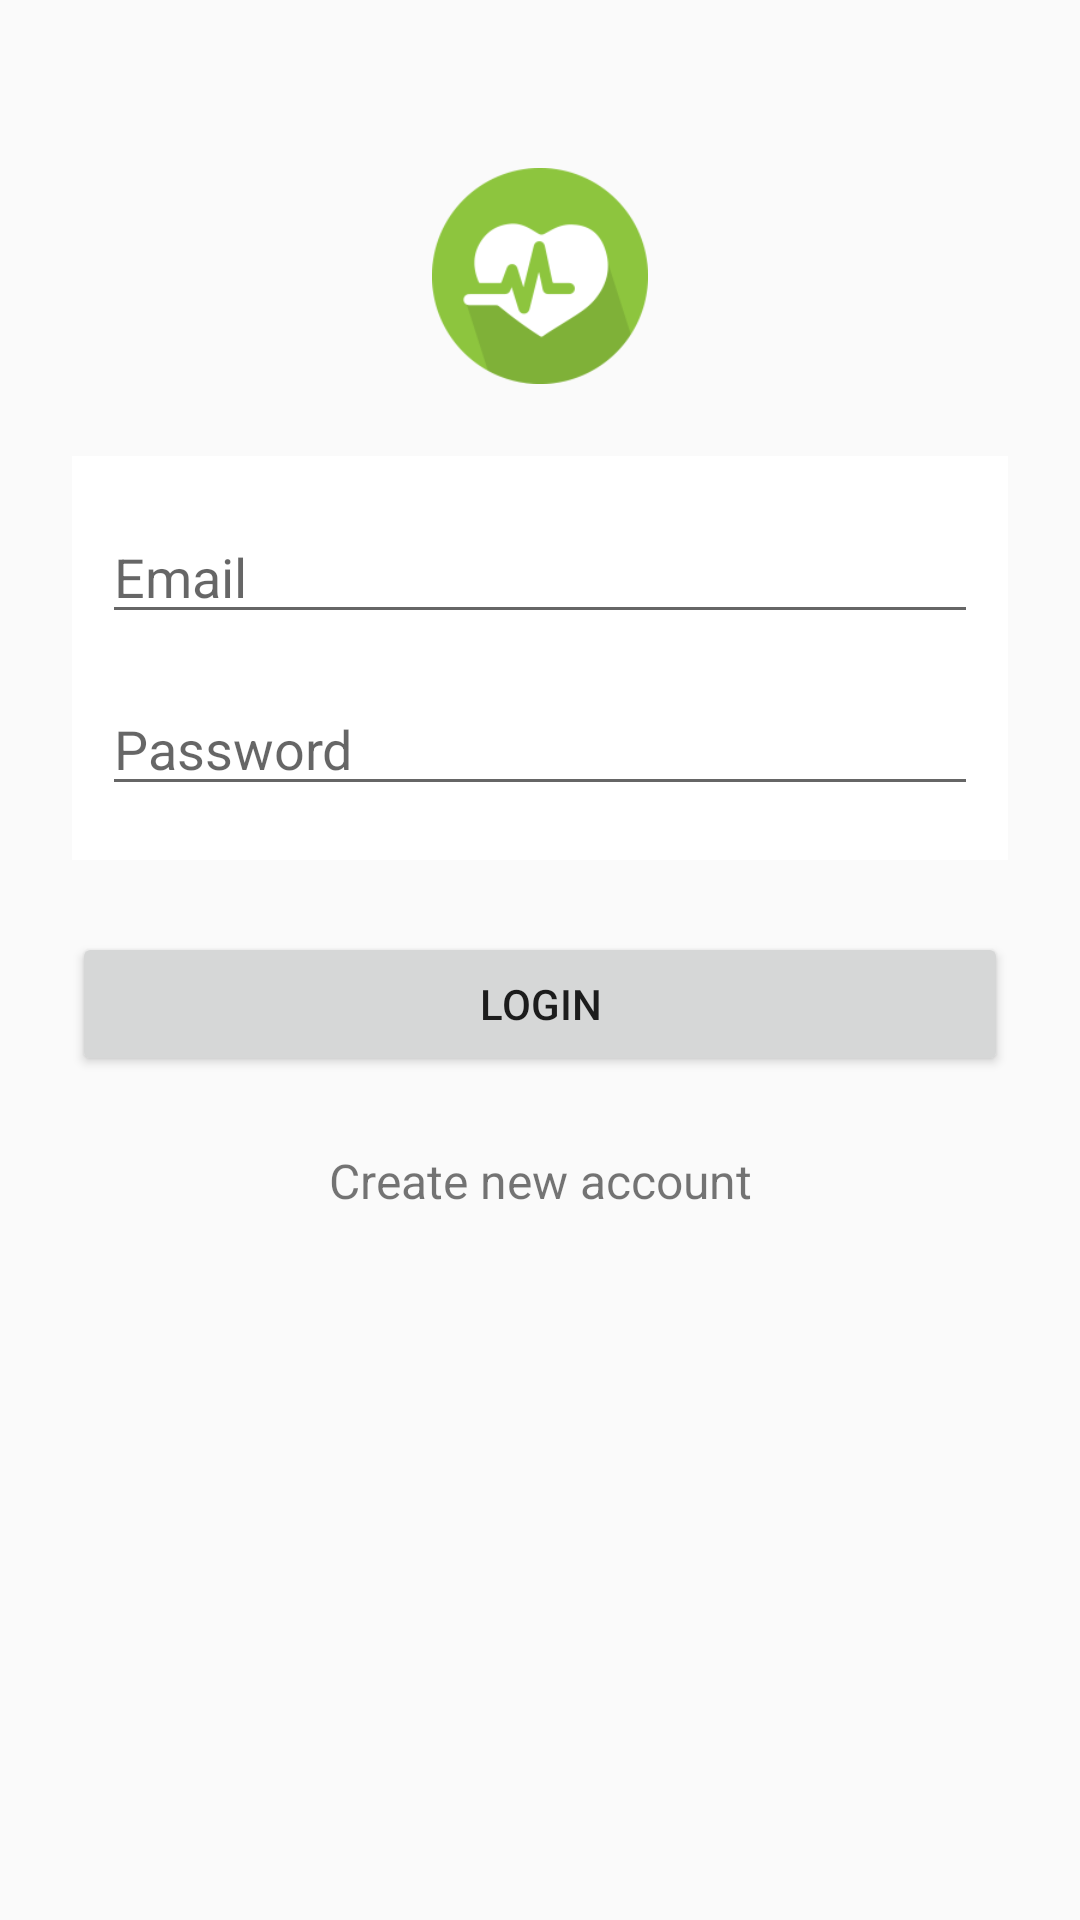

Screen size 1080×1920. Icon name, then its box in pixels as (x1=x1, y1=y1, x2=x2, y2=y2):
app: (x1=432, y1=168, x2=648, y2=384)
